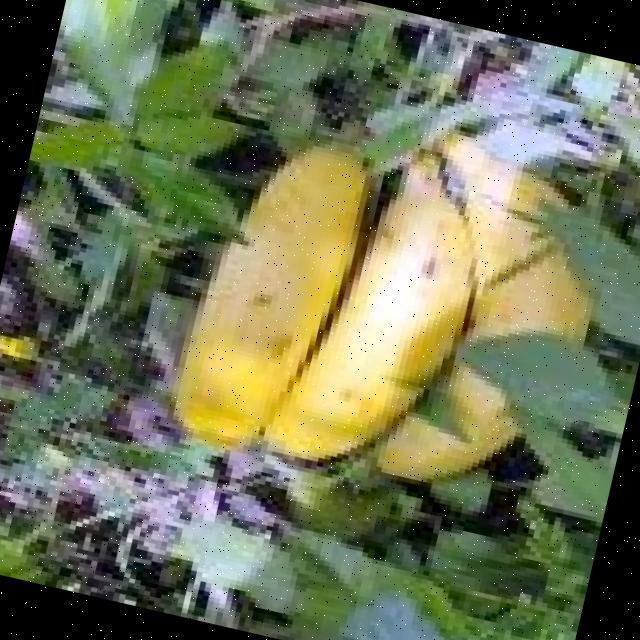Good_Banana-2-3 days: (174, 135, 589, 480)
